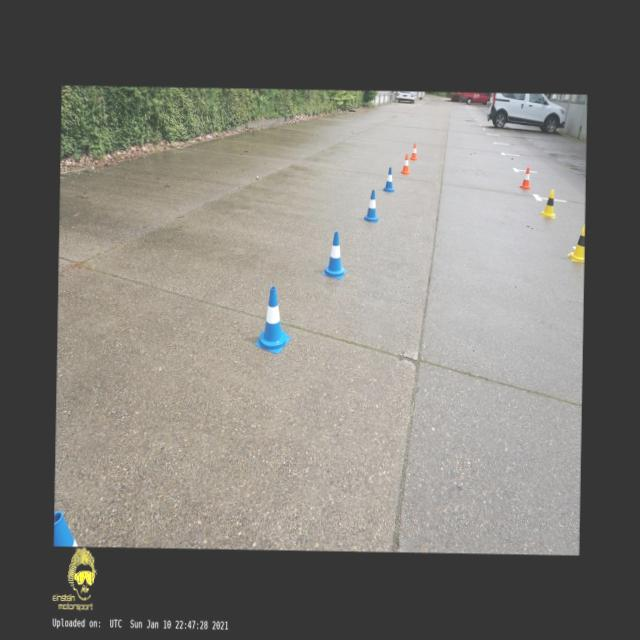blue_cone: (254, 286, 292, 354), (322, 230, 346, 278), (54, 510, 78, 545), (364, 189, 378, 222), (382, 166, 393, 191)
orange_cone: (520, 166, 530, 189), (400, 153, 410, 174), (409, 142, 417, 160)
yellow_cone: (566, 223, 584, 262), (540, 188, 555, 218)
